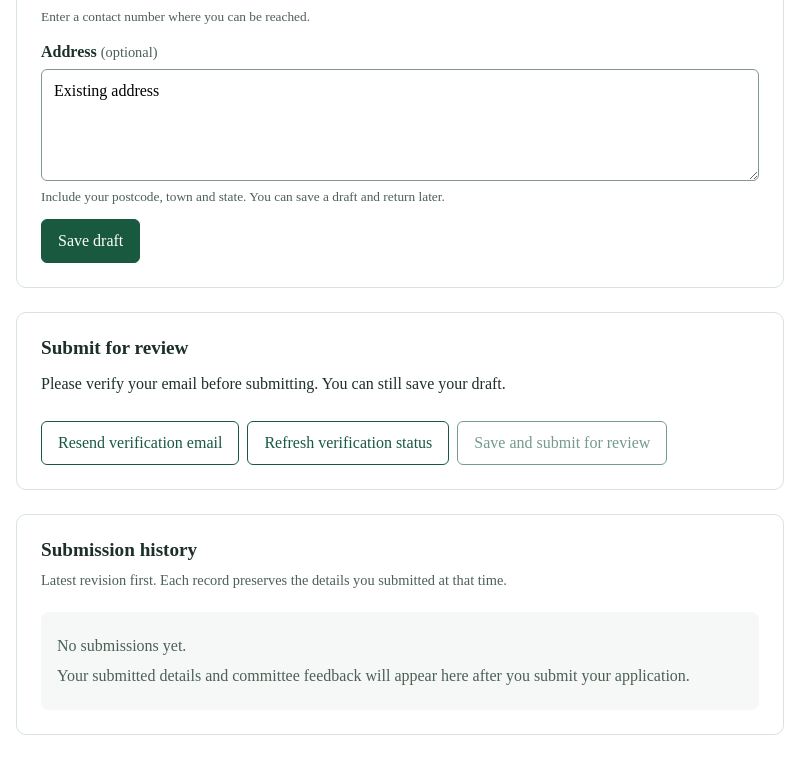
Test: application submission › keeps submission disabled for an unverified account and can resend verification
(page scrolled)
Expected: the button "Save and submit for review" is disabled, [457, 421, 667, 465]
Click the button "Resend verification email". click: point(140, 443)
box: [41, 421, 239, 465]
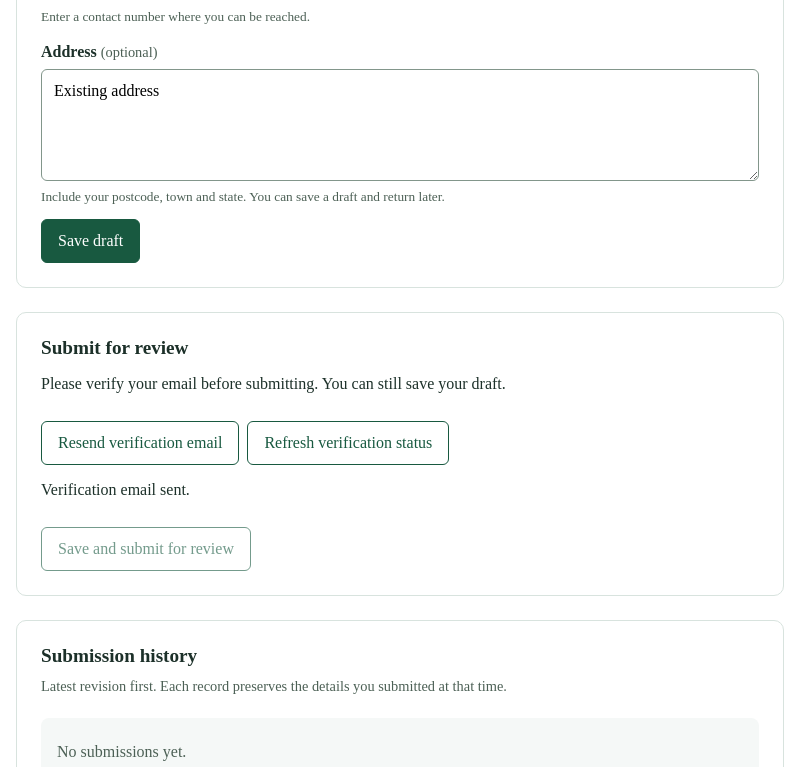
Expected: the text "Verification email sent." is shown, [41, 481, 190, 498]
